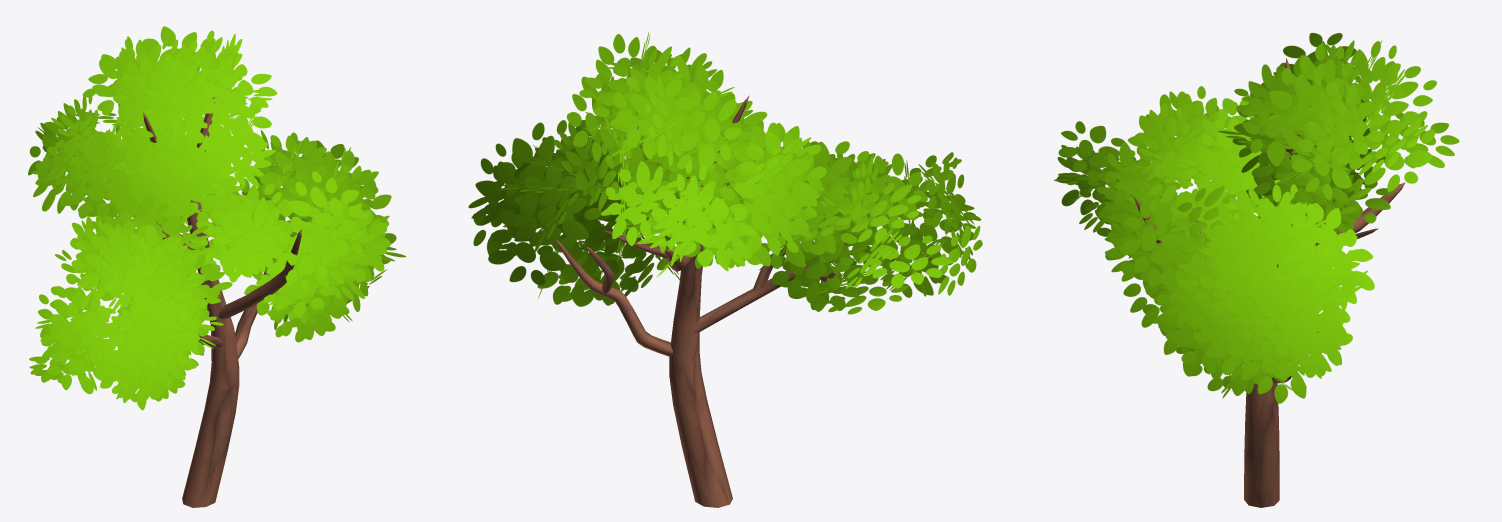
The model's file is normaltree_5.glb.
3 renders of one model, left to right at view 1: azimuth 30°, elevation 25°; view 2: azimuth 150°, elevation 25°; view 3: azimuth 270°, elevation 25°, orthographic. The views are drawn at different scales.
Visible parts, largest first — view 1: NormalTree_5; view 2: NormalTree_5; view 3: NormalTree_5.
Part boxes in pixels (bbox=[...]): NormalTree_5: bbox=[28, 26, 405, 507]; NormalTree_5: bbox=[468, 32, 982, 507]; NormalTree_5: bbox=[1054, 33, 1459, 507].
Size of the model in its own units: 3.1 by 2.98 by 2.57.
2 materials, 2 textured.
